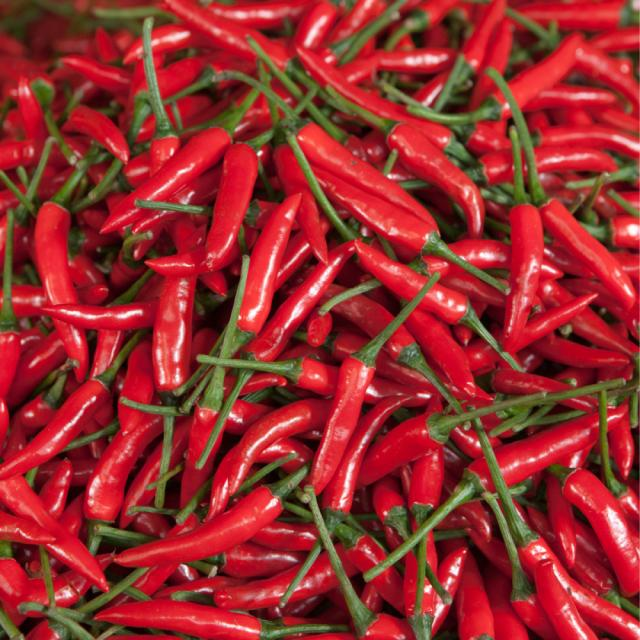chilli: (122, 488, 288, 574), (224, 195, 298, 345), (462, 414, 592, 498), (386, 113, 470, 214), (311, 355, 371, 488), (206, 138, 258, 267), (364, 407, 452, 480), (153, 276, 195, 420), (28, 191, 78, 306), (386, 264, 476, 327), (501, 195, 539, 334), (39, 298, 150, 332)
